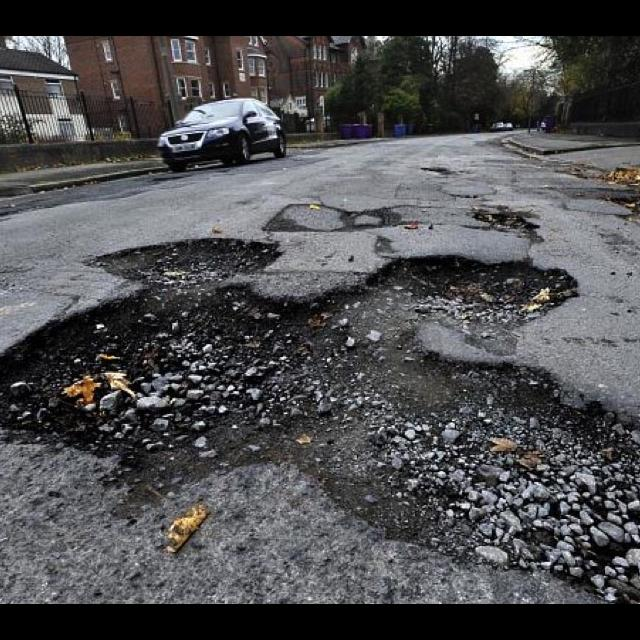lubang_kecil: (305, 316, 640, 604), (0, 280, 340, 494), (325, 240, 579, 339), (76, 224, 287, 292), (250, 191, 400, 240), (461, 194, 543, 243), (0, 245, 60, 302), (596, 179, 640, 231), (418, 162, 499, 182)
